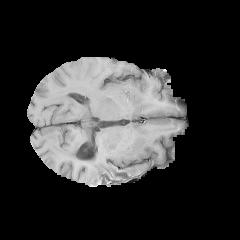glioma: (91, 156, 145, 185)
